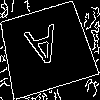A: (21, 24, 66, 77)
